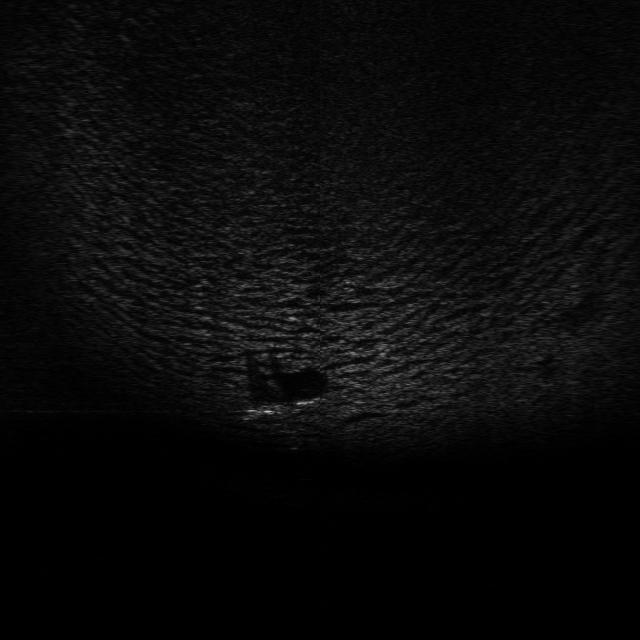plane: (238, 394, 327, 420)
